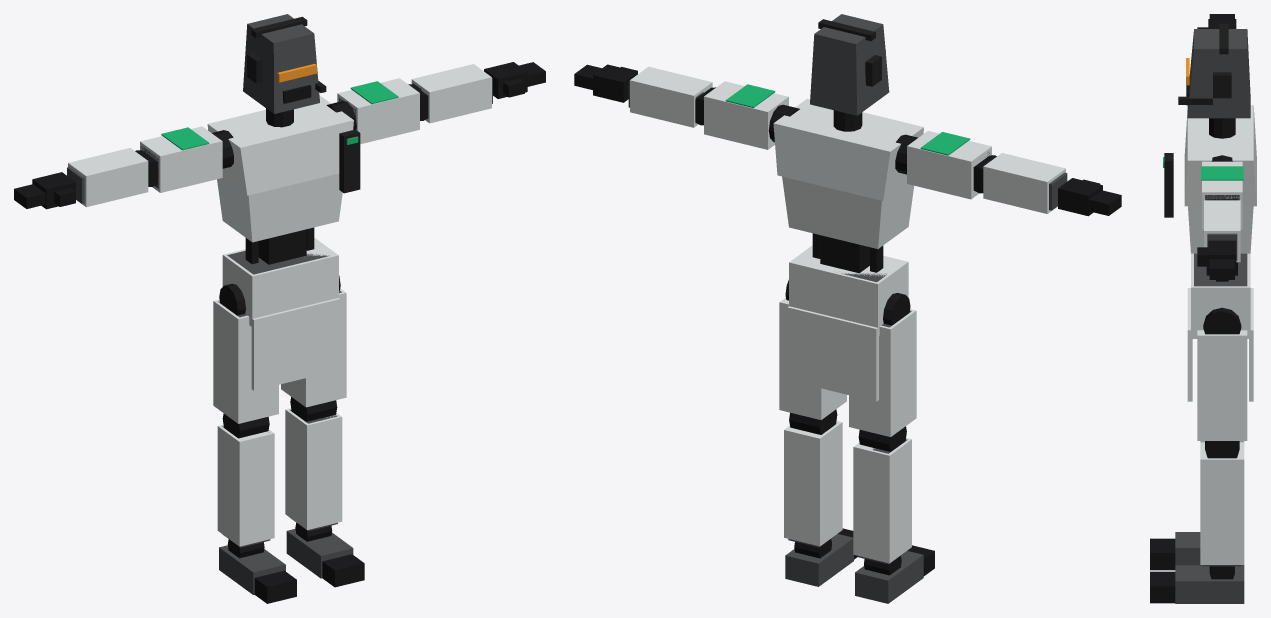
The model's file is char_F1_medical_officer.obj.
3 renders of one model, left to right at view 1: azimuth 30°, elevation 25°; view 2: azimuth 150°, elevation 25°; view 3: azimuth 270°, elevation 25°, orthographic. The views are drawn at different scales.
Visible parts, largest first — view 1: MedCoat, ChassisJoints, Chassis, MedCoat_Mark, Strap_Medpens, Headset; view 2: MedCoat, ChassisJoints, Chassis, MedCoat_Mark, Headset; view 3: MedCoat, Chassis, ChassisJoints, Headset, Strap_Medpens, MedCoat_Mark.
Part boxes in pixels (<box>): MedCoat: <box>68,64,491,546</box>; ChassisJoints: <box>14,62,545,603</box>; Chassis: <box>67,14,492,594</box>; MedCoat_Mark: <box>161,81,398,150</box>; Strap_Medpens: <box>339,129,360,193</box>; Headset: <box>247,16,326,92</box>; MedCoat: <box>630,66,1065,563</box>; ChassisJoints: <box>574,64,1121,576</box>; Chassis: <box>628,14,1067,603</box>; MedCoat_Mark: <box>725,84,970,155</box>; Headset: <box>818,19,881,86</box>; MedCoat: <box>1184,105,1256,564</box>; Chassis: <box>1175,29,1250,603</box>; ChassisJoints: <box>1150,14,1241,603</box>; Headset: <box>1178,23,1231,104</box>; Strap_Medpens: <box>1164,153,1173,217</box>; MedCoat_Mark: <box>1201,166,1243,180</box>.
Bounding box in the file's own units: 1.92 × 1.91 × 0.34.
